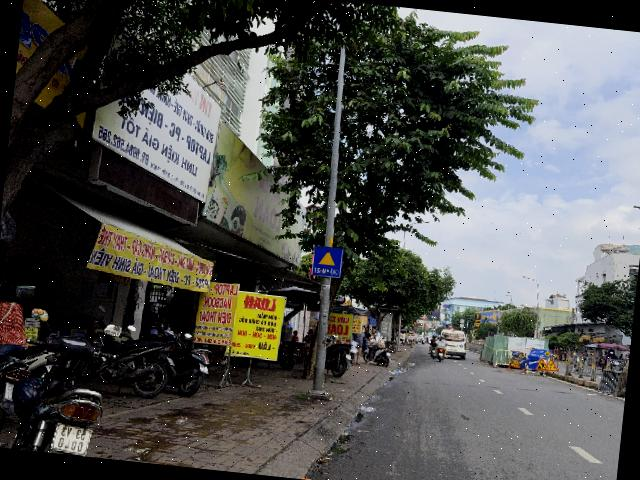khu-vuc-cho-phia-truoc: (311, 245, 344, 278)
